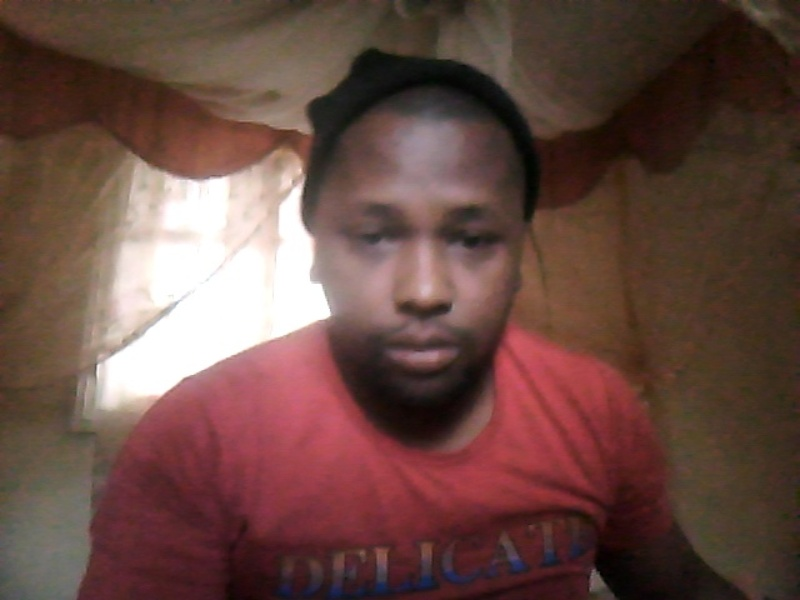TsisyArotava: (287, 44, 556, 433)
